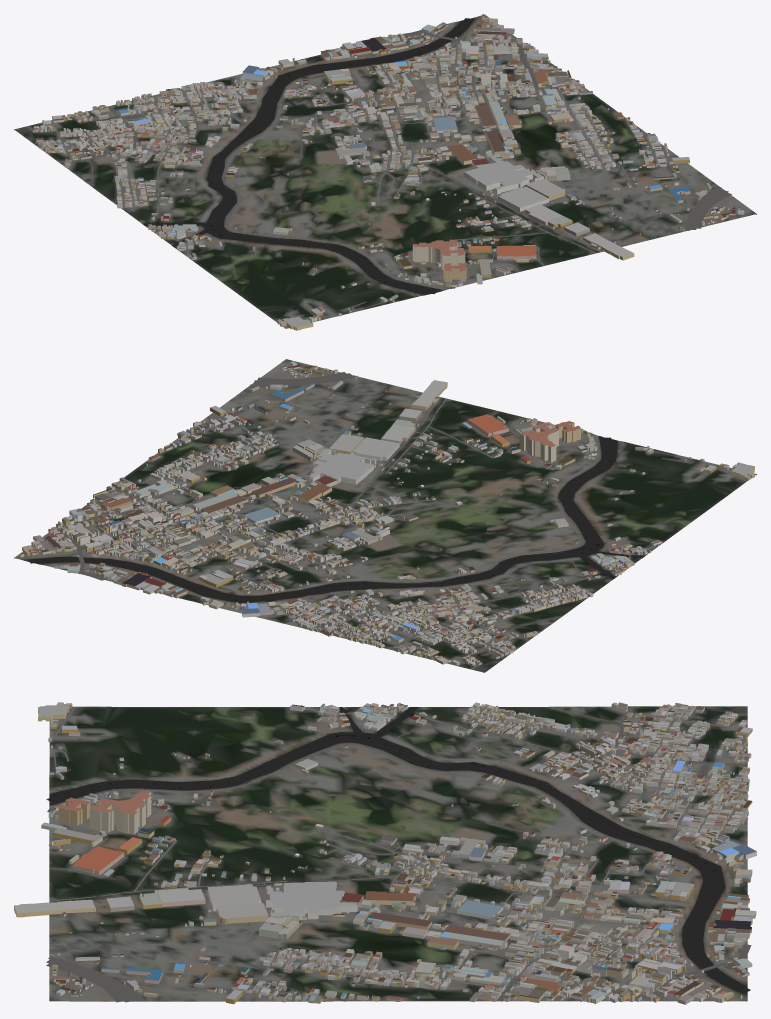
The picture shows the model from 3 angles, top to bottom: view 1: azimuth 30°, elevation 25°; view 2: azimuth 150°, elevation 25°; view 3: azimuth 270°, elevation 25°; orthographic projection. The views are drawn at different scales.
Parts seen in each view (by area): view 1: ground, buildings, roads, water; view 2: ground, buildings, roads, water; view 3: ground, buildings, water, roads.
Part boxes in pixels (x1,y1,x2,y2): ground: (14,15,756,328); buildings: (32,14,744,330); roads: (38,15,731,328); water: (142,17,475,294); ground: (14,359,756,672); buildings: (19,361,754,665); roads: (18,371,756,664); water: (25,436,644,603); ground: (49,706,747,1001); buildings: (14,702,756,1004); water: (46,707,750,994); roads: (46,706,751,1002).
Bounding box in the file's own units: 1423 × 47.61 × 1490.
